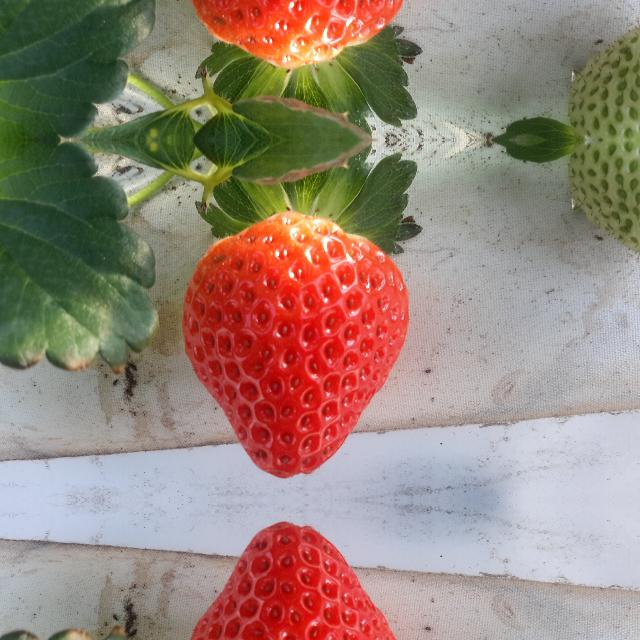Health_100: (182, 211, 408, 477), (182, 523, 408, 640), (182, 0, 408, 69)
